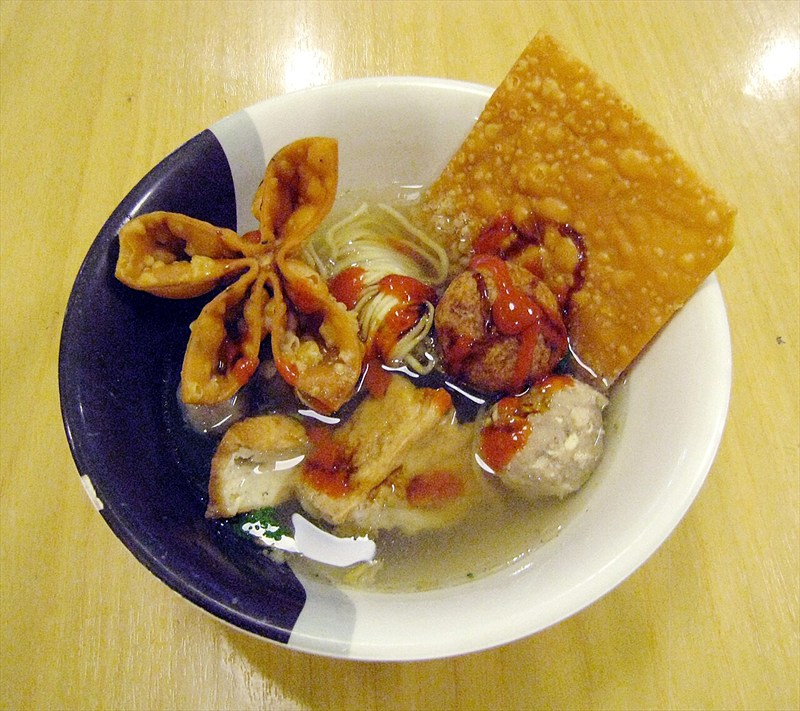Bakso: (87, 135, 623, 594)
